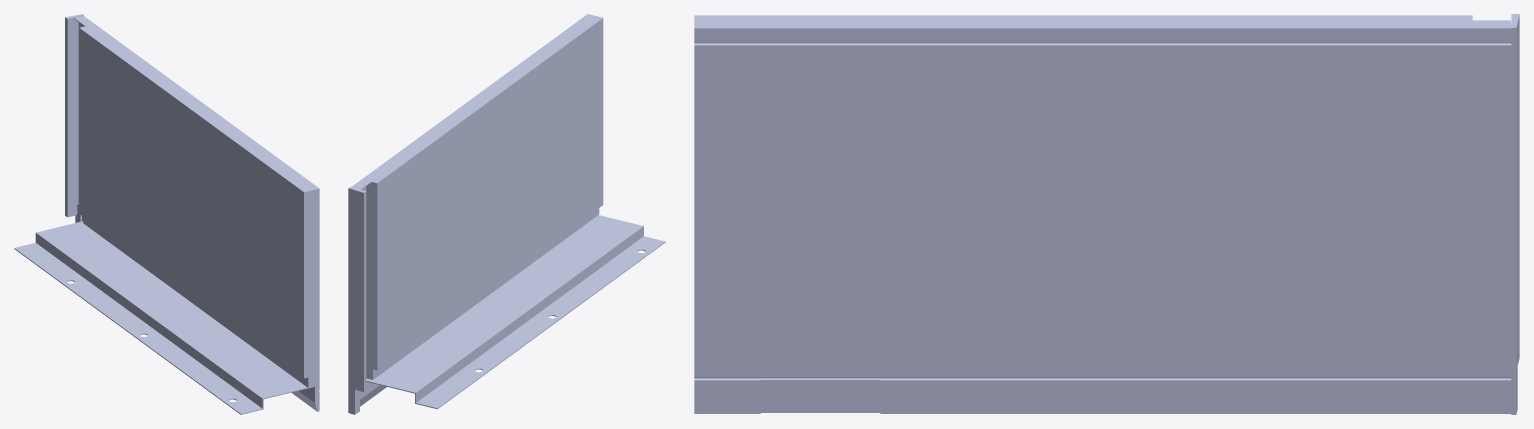
The model's file is lg-kava-C350-m.glb.
3 renders of one model, left to right at view 1: azimuth 30°, elevation 25°; view 2: azimuth 150°, elevation 25°; view 3: azimuth 270°, elevation 25°, orthographic. The views are drawn at different scales.
Visible parts, largest first — view 1: 46374938; view 2: 46374938; view 3: 46374938.
Boxes of the visible parts, box(x1,y1,x2,y2) form: 46374938: box(14, 14, 319, 414); 46374938: box(348, 14, 665, 414); 46374938: box(694, 14, 1519, 414).
Size of the model in its own units: 0.0653 by 0.1777 by 0.3435.
